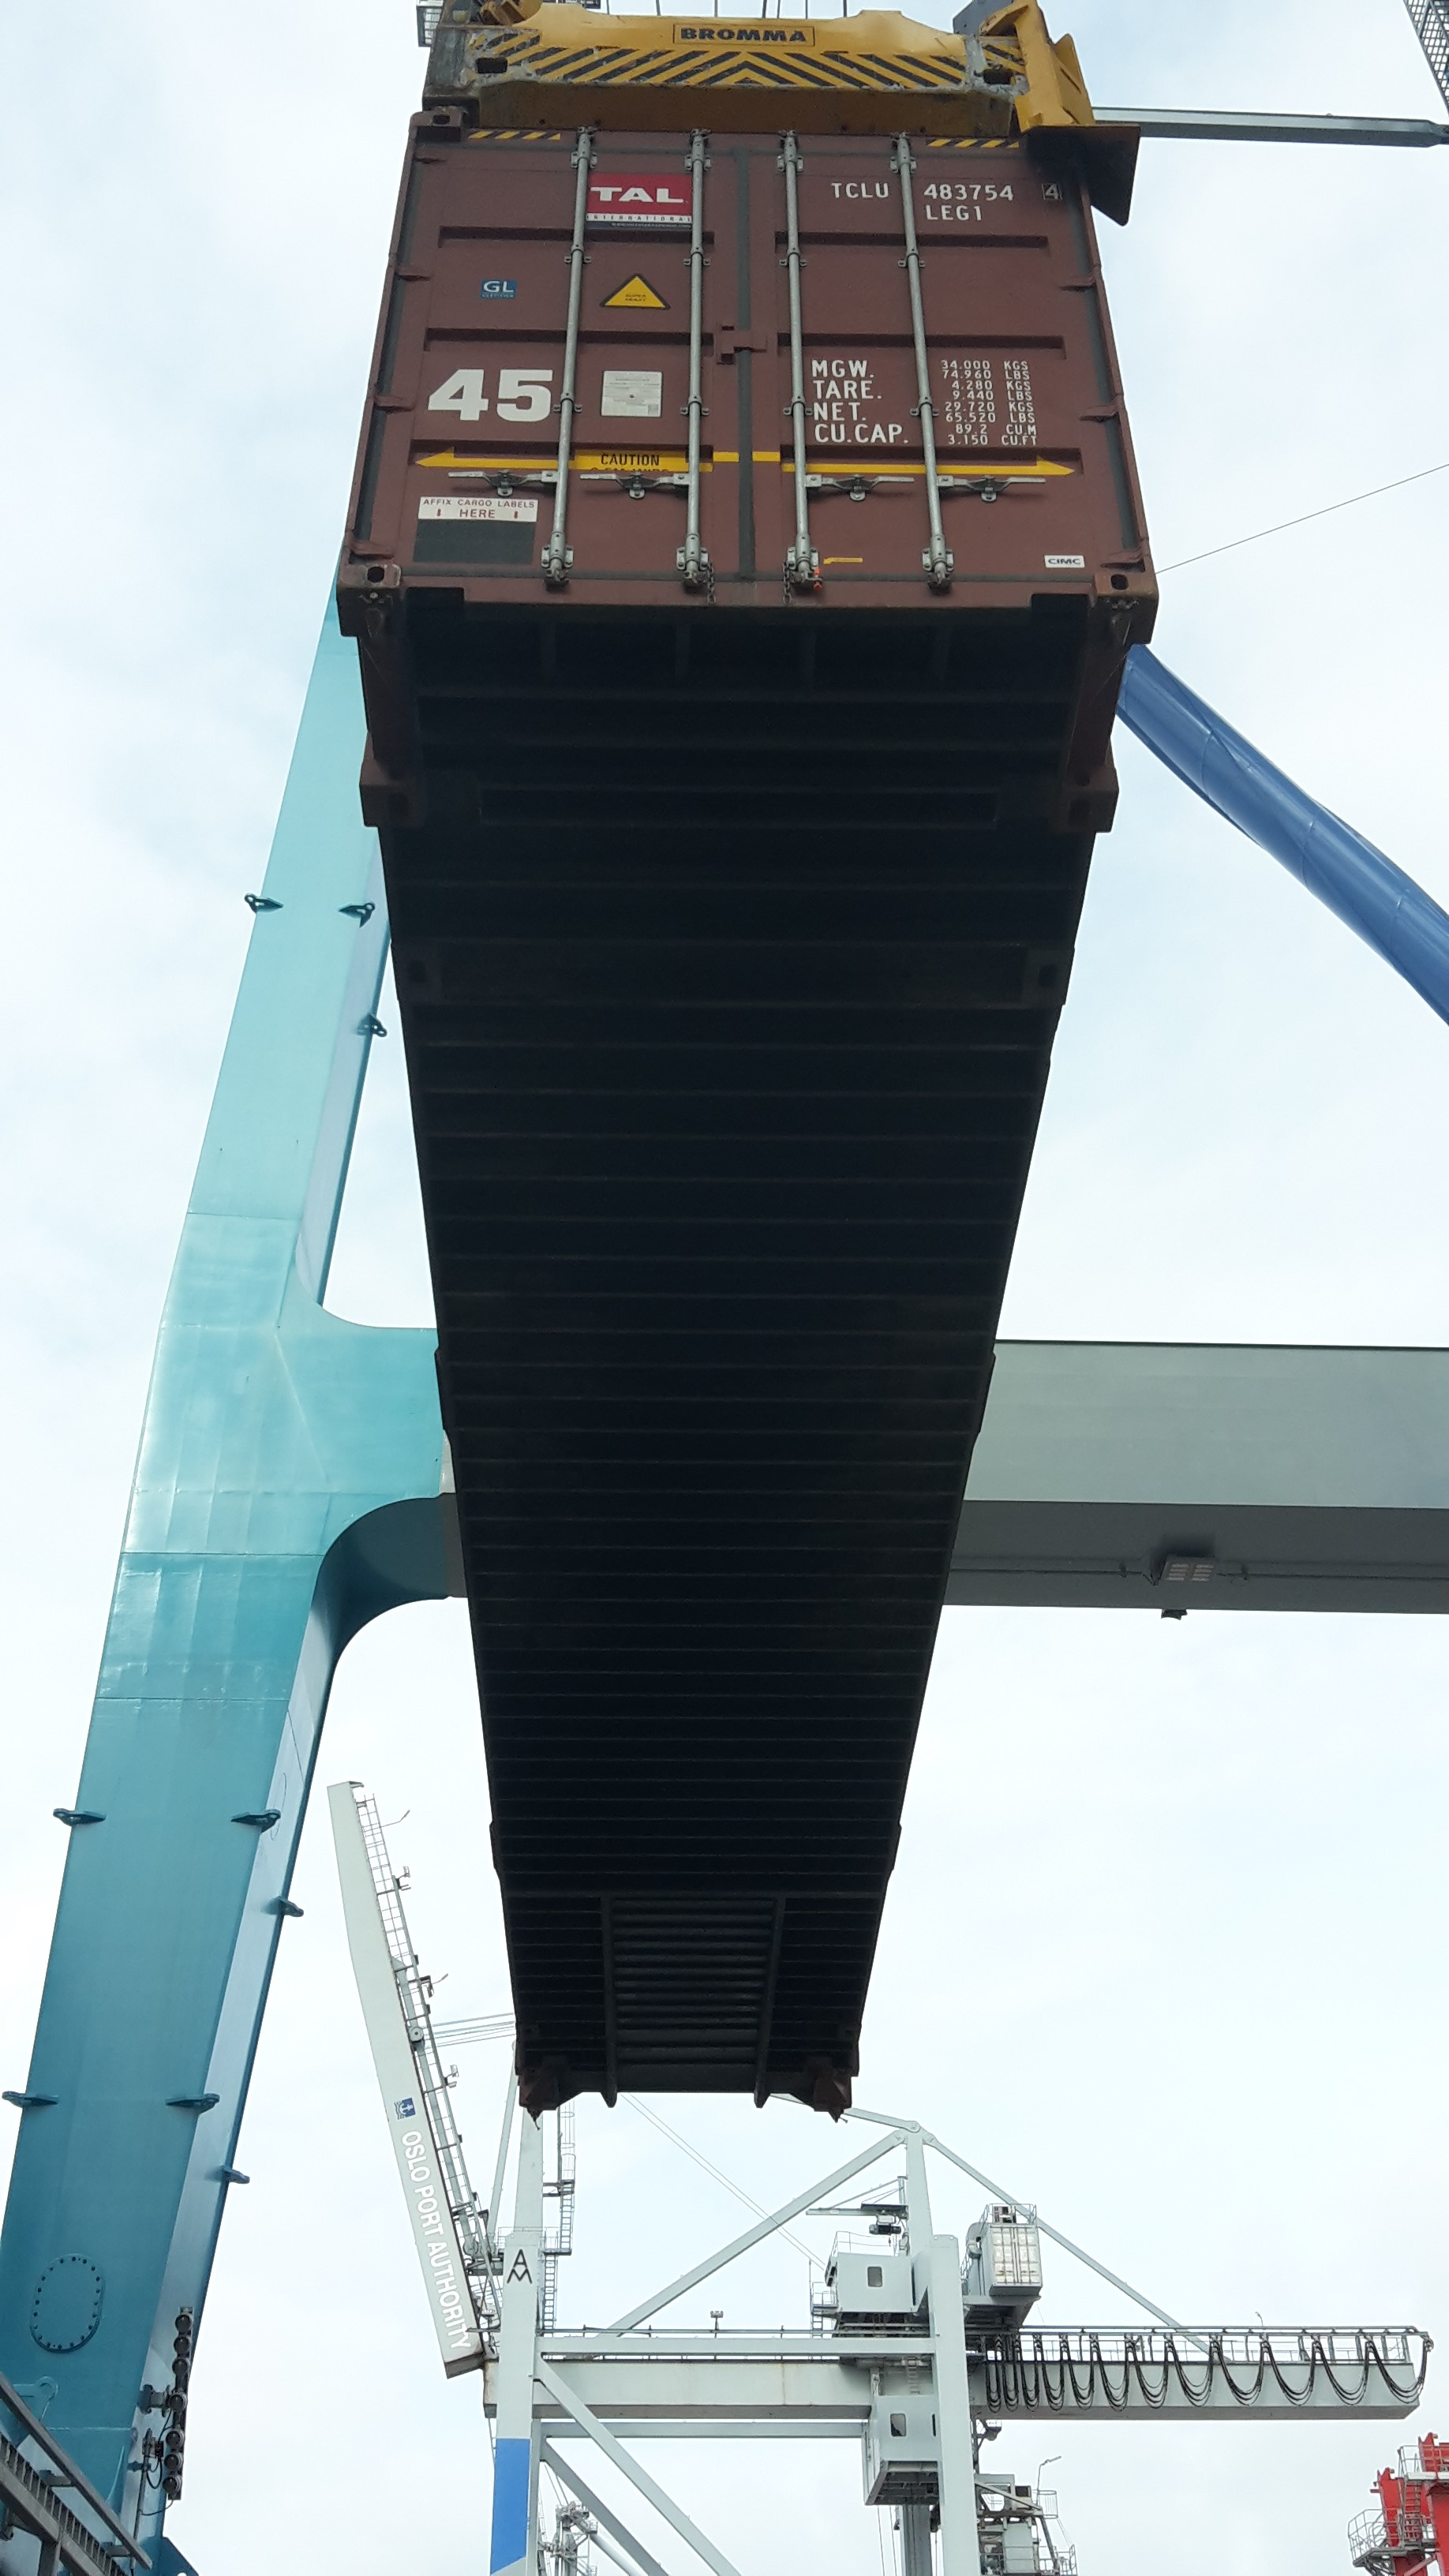container_door: (347, 99, 1148, 594)
